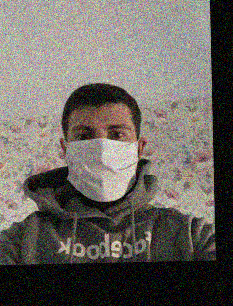with_mask: (64, 115, 139, 201)
